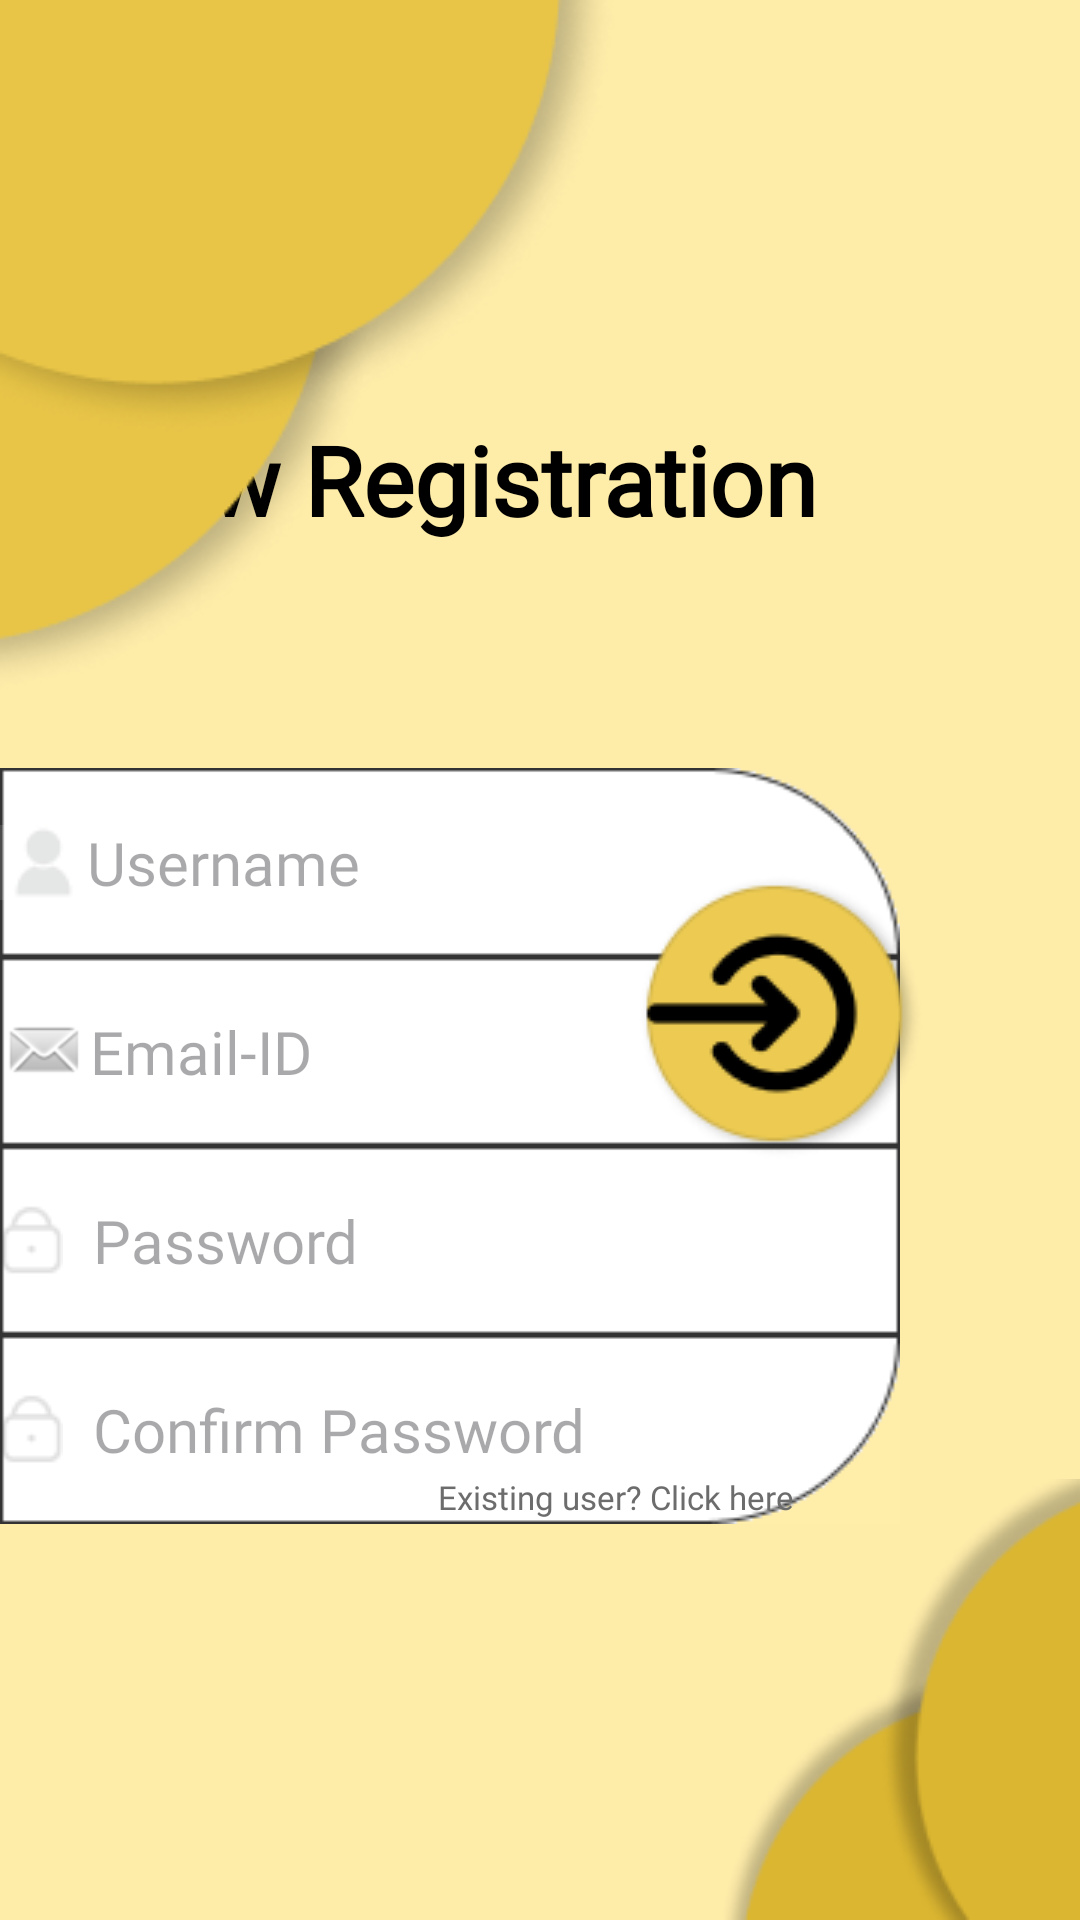

Where icons sit on this 1080px×1920px app screen, as detection(x1, y1, x2, y2):
loginbtnarrow: detection(602, 844, 959, 1189)
